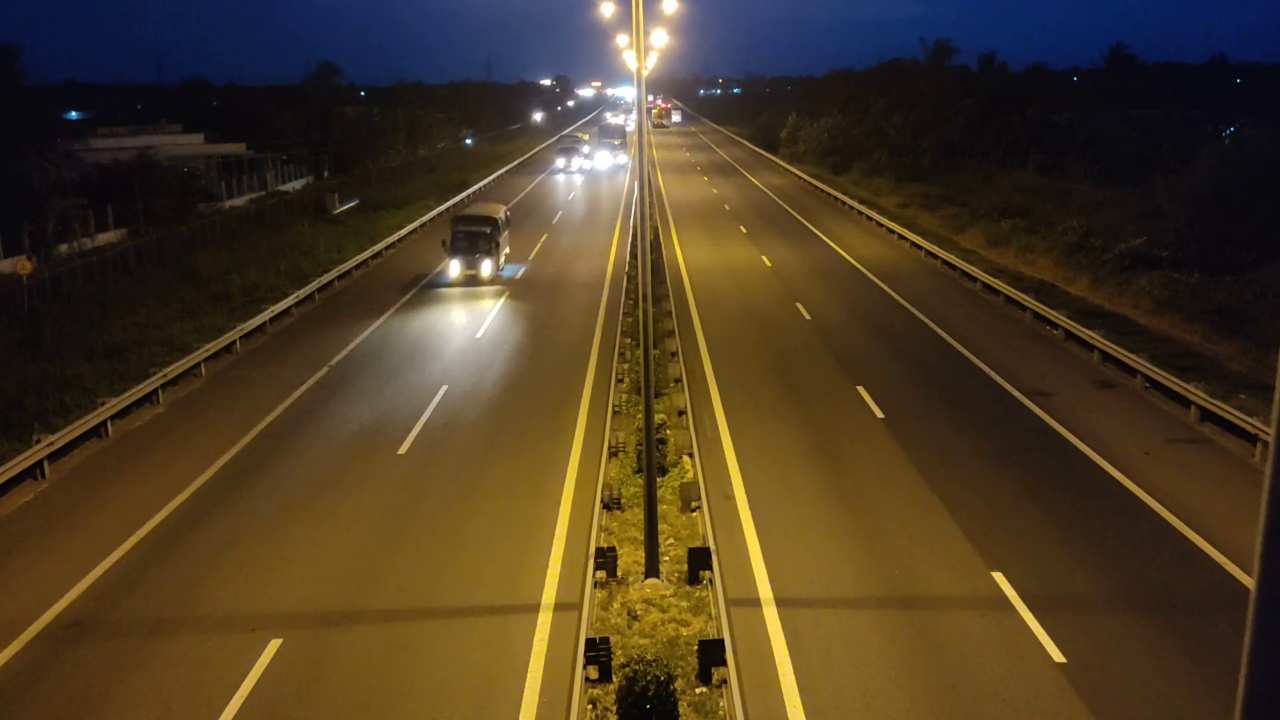truck: (442, 192, 514, 291)
